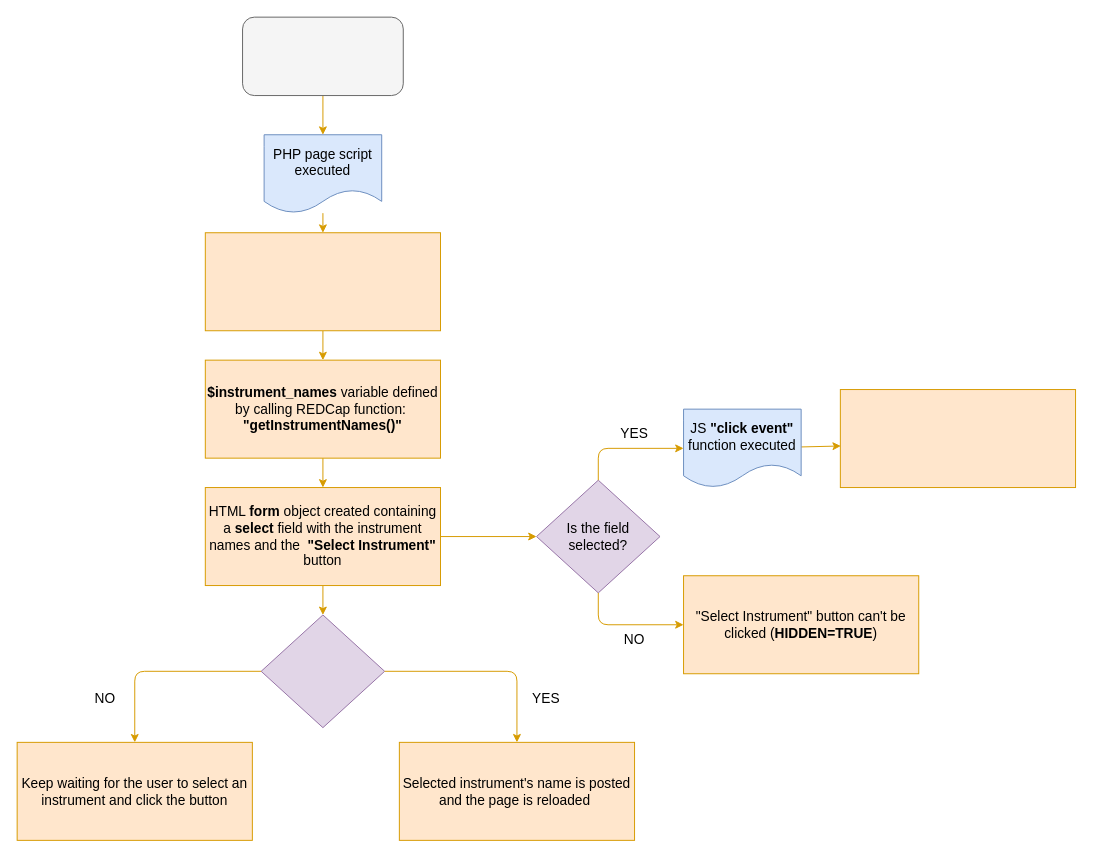
Image size: 1093x858. Some labels were removed from this diagram. Each missing label, with the centre of its shape:
"Button's HIDDEN atribute set to FALSE , now It can be clicked" belongs at point 957,438.
"HTML header and body defined and JS script included in header" belongs at point 322,281.
"Is the button clicked?" belongs at point 322,671.
"User access to Template Generator page" belongs at point 322,56.
